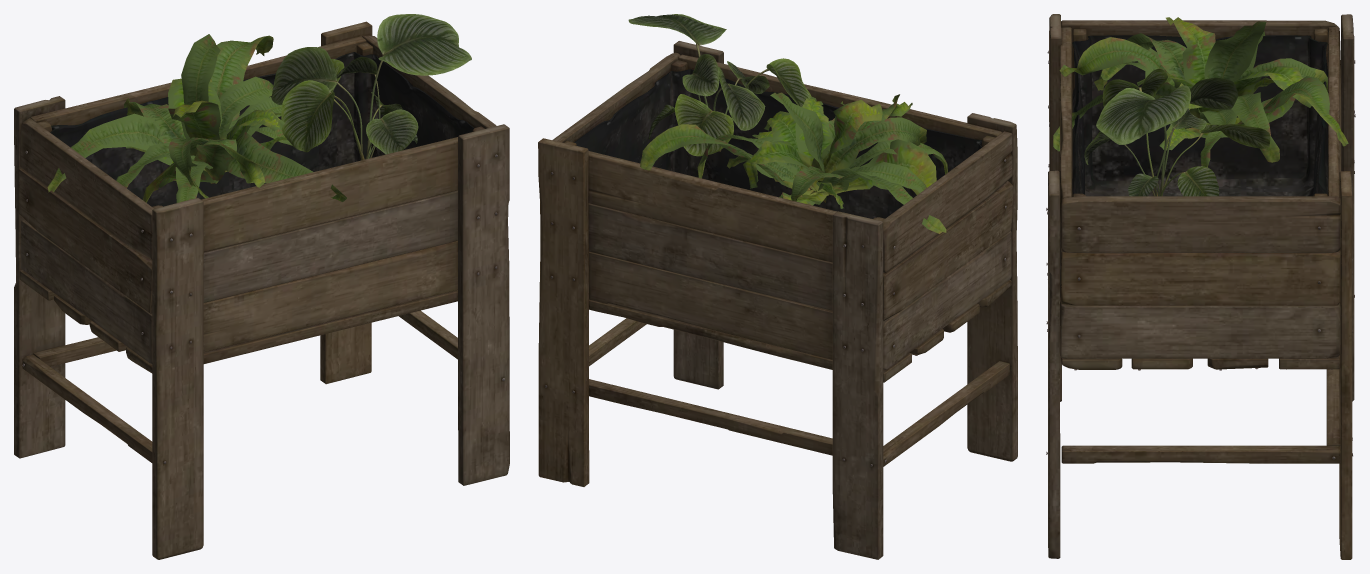
File: raisedbed.glb
The picture shows the model from 3 angles, left to right: view 1: azimuth 30°, elevation 25°; view 2: azimuth 150°, elevation 25°; view 3: azimuth 270°, elevation 25°; orthographic projection. The views are drawn at different scales.
Parts seen in each view (by area): view 1: planter_box_03, fern_02_b, calathea_orbifolia_01_a; view 2: planter_box_03, fern_02_b, calathea_orbifolia_01_a; view 3: planter_box_03, fern_02_b, calathea_orbifolia_01_a.
Boxes of the visible parts, left/top/right/bottom form: planter_box_03: left=14, top=21, right=509, bottom=559; fern_02_b: left=47, top=34, right=346, bottom=202; calathea_orbifolia_01_a: left=271, top=14, right=471, bottom=160; planter_box_03: left=538, top=41, right=1017, bottom=559; fern_02_b: left=640, top=92, right=947, bottom=233; calathea_orbifolia_01_a: left=628, top=14, right=811, bottom=156; planter_box_03: left=1046, top=14, right=1355, bottom=559; fern_02_b: left=1053, top=17, right=1348, bottom=167; calathea_orbifolia_01_a: left=1084, top=69, right=1270, bottom=196.
Size of the model in its own units: 0.9536 by 1.04 by 0.6556.
Materials: 3 (3 with a texture image).
